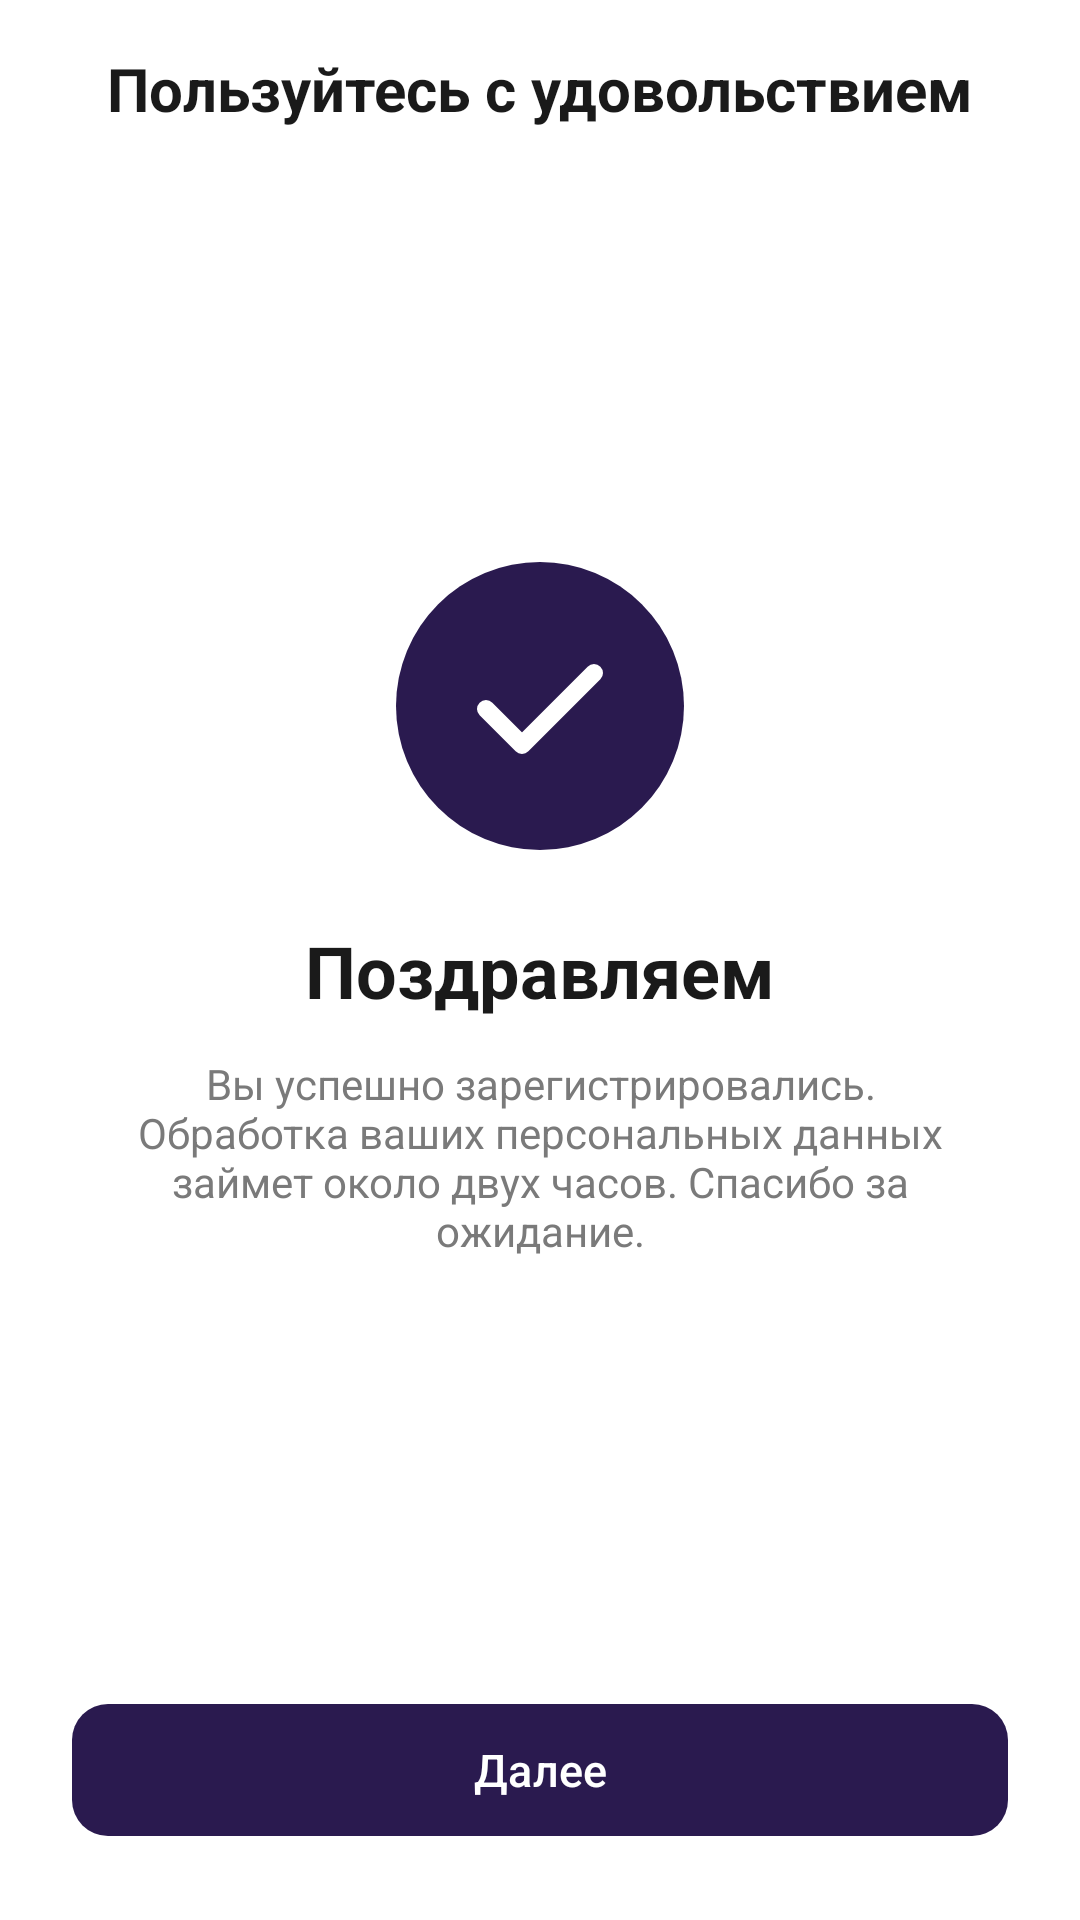

Screen size 1080px x 1920px. Icon name, then its box in pixels as (x1, y1, x2, y2):
success: (396, 562, 684, 850)
